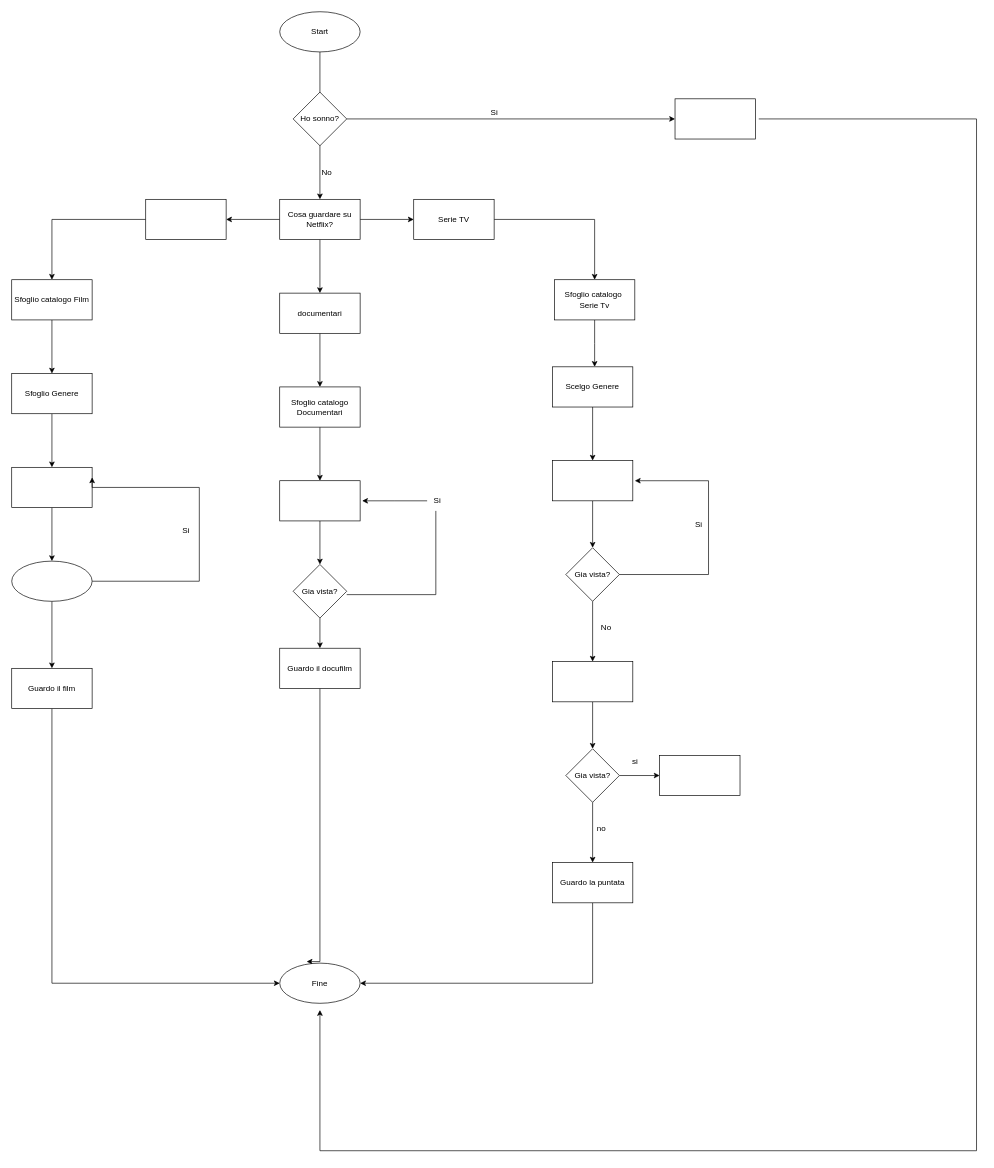
Image size: 994x1168. Some labels were removed from this diagram. Here are the shapes that lost their labels. From the top down, the box of each, then its label:
(674, 98, 755, 139): Forse sarebbe meglio andare a dormire.
(145, 199, 226, 240): film
(11, 467, 92, 508): Trovo Film
(279, 480, 360, 521): Scelgo Documentario
(552, 460, 633, 501): Trovo Serie Tv
(11, 560, 92, 601): Gia visto?
(552, 661, 633, 702): Scelgo la puntata
(659, 755, 740, 796): Scelgo un'altra puntata
